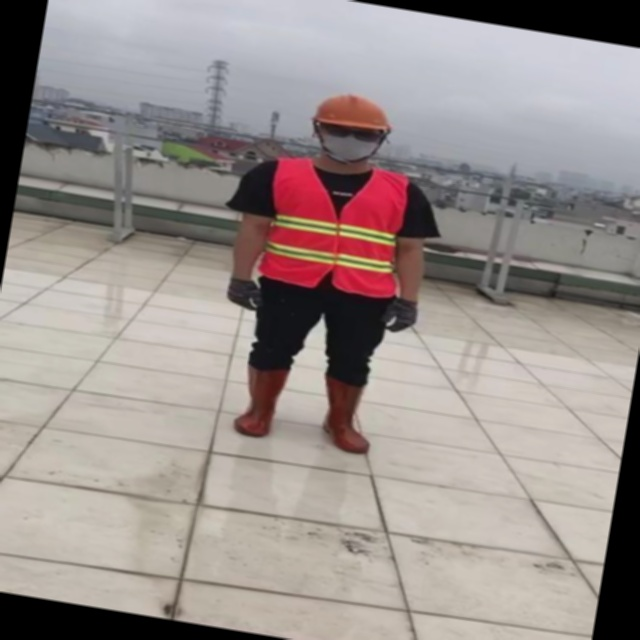boots: (336, 373, 394, 448), (245, 374, 302, 448)
gloves: (217, 281, 260, 328)
helmet: (274, 92, 361, 126)
vest: (244, 165, 392, 293)
